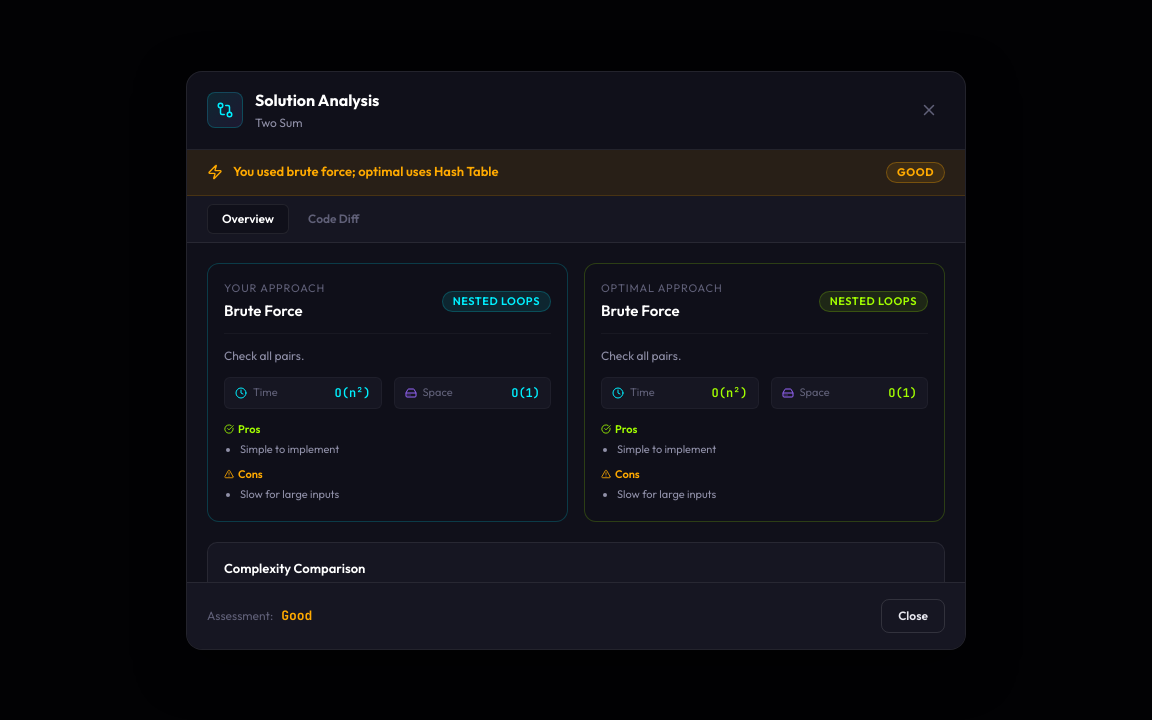
Test: SolutionComparison › tab switching › switches to code tab when clicking "Code Diff"
Click the button "Code Diff": (334, 218) x1=293 y1=204 x2=374 y2=234
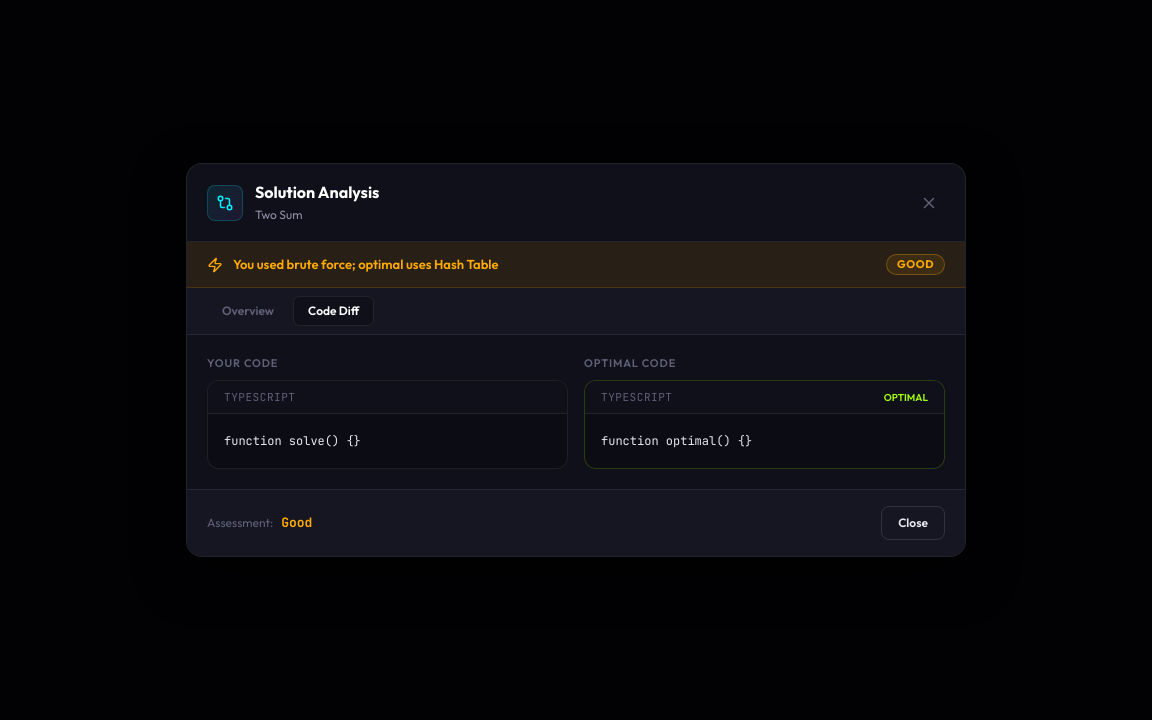
expect the text "Your Code" is shown: met, box x1=207 y1=356 x2=278 y2=370
expect the text "Optimal Code" is shown: met, box x1=584 y1=356 x2=676 y2=370
expect the text "function solve() {}" is shown: met, box x1=224 y1=433 x2=361 y2=449
